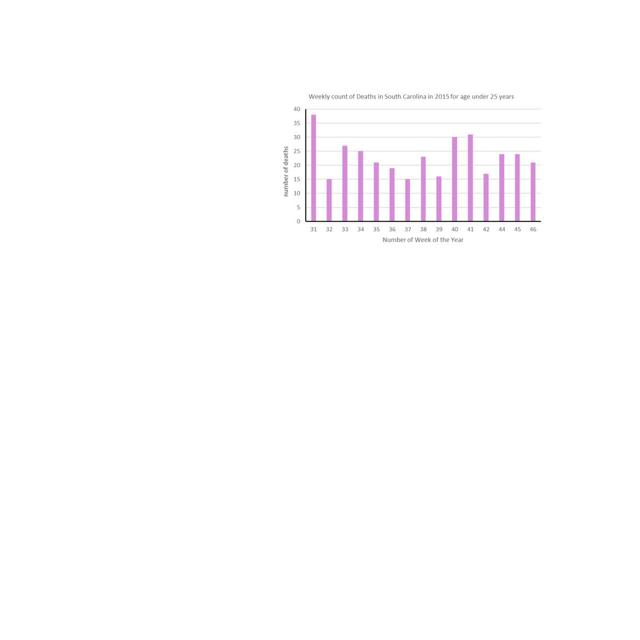Graph: (276, 88, 547, 252)
